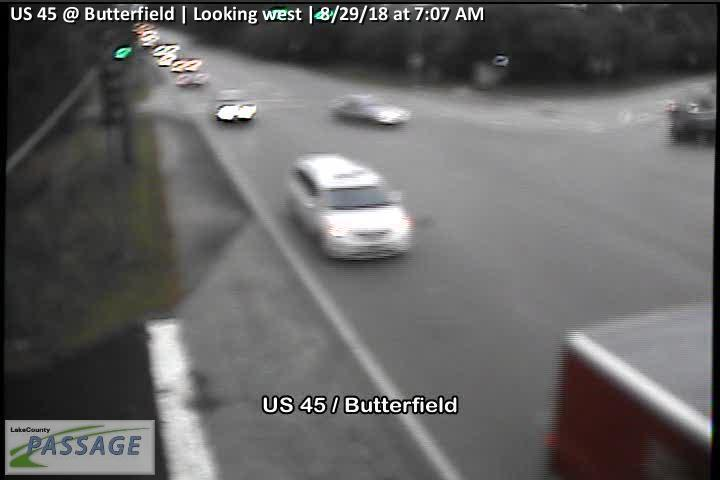SUV: (284, 153, 419, 263), (667, 84, 720, 148)
Sedan: (329, 91, 412, 130), (211, 92, 259, 125)
